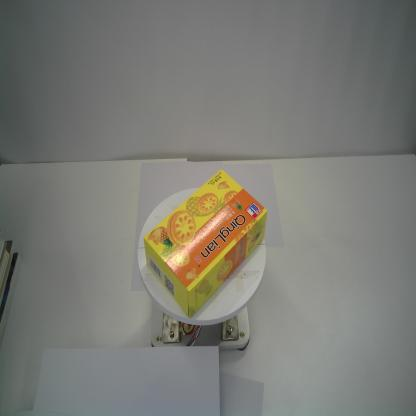Dessert: (142, 166, 268, 319)
